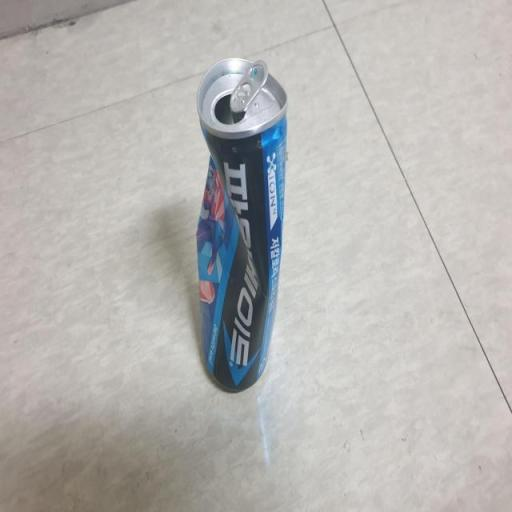metal: (170, 32, 303, 405)
